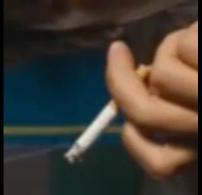Cigarette: (64, 62, 149, 162)
